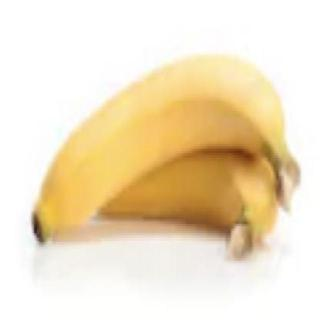banana: (25, 50, 286, 247), (88, 144, 280, 260)
